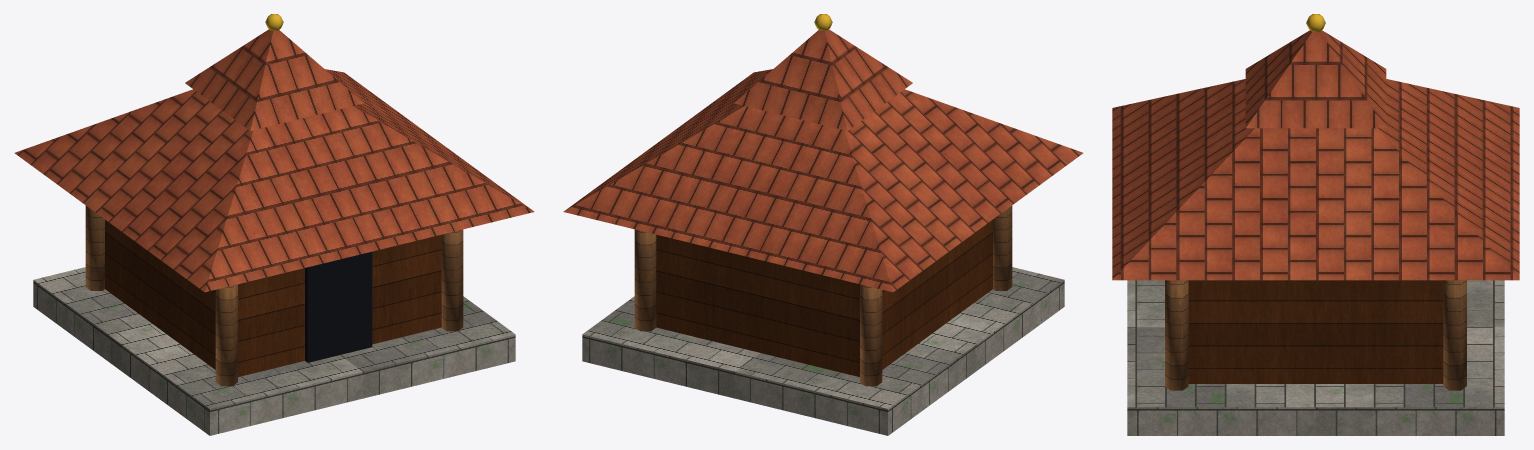
File: house_jawa.glb
3 views of the same model, side by side, from view 1: azimuth 30°, elevation 25°; view 2: azimuth 150°, elevation 25°; view 3: azimuth 270°, elevation 25° (orthographic). The views are drawn at different scales.
Parts seen in each view (by area): view 1: house_jawa; view 2: house_jawa; view 3: house_jawa.
Boxes of the visible parts, <box> form: house_jawa: <box>14,14,534,435</box>; house_jawa: <box>563,14,1083,435</box>; house_jawa: <box>1112,14,1519,435</box>.
Size of the model in its own units: 2.05 by 1.9 by 2.05.
6 materials, 4 textured.
